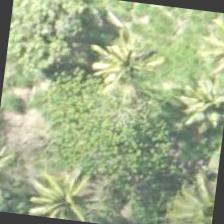Kelapa_Sawit: (75, 20, 175, 120), (18, 152, 116, 223), (163, 60, 223, 157)
